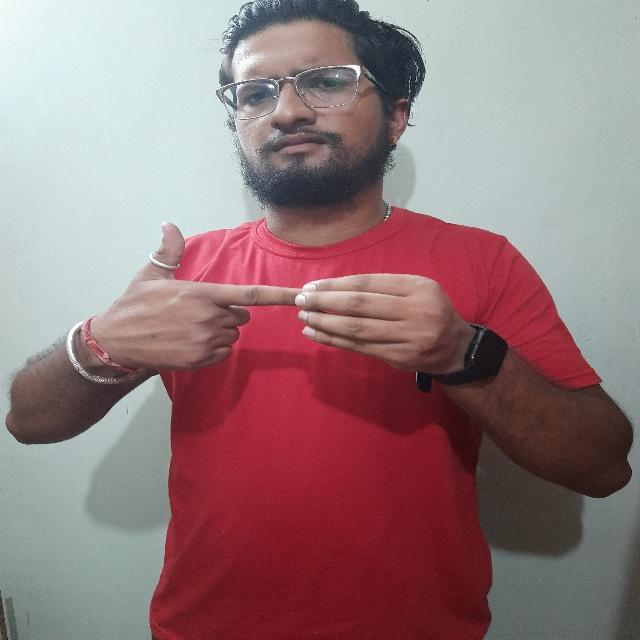Five Fathers: (84, 217, 469, 387)
